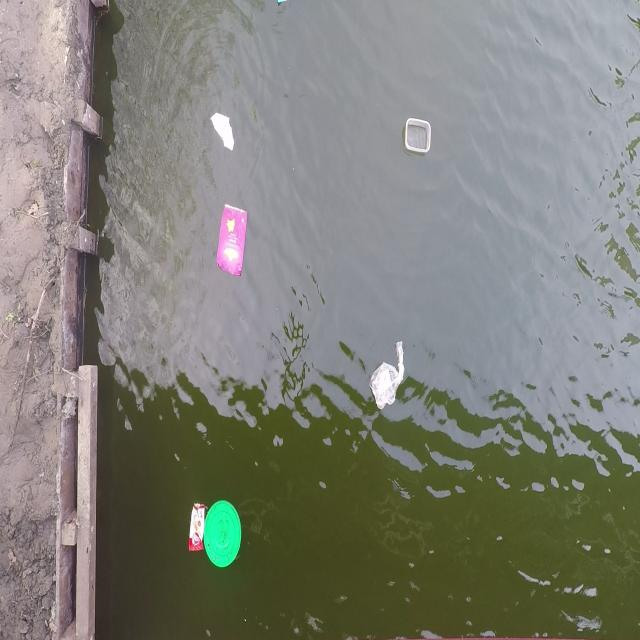Autre plastique: (212, 195, 252, 286), (205, 499, 247, 577), (399, 115, 437, 161), (186, 497, 205, 560)
Sac plastique: (368, 332, 408, 415)
